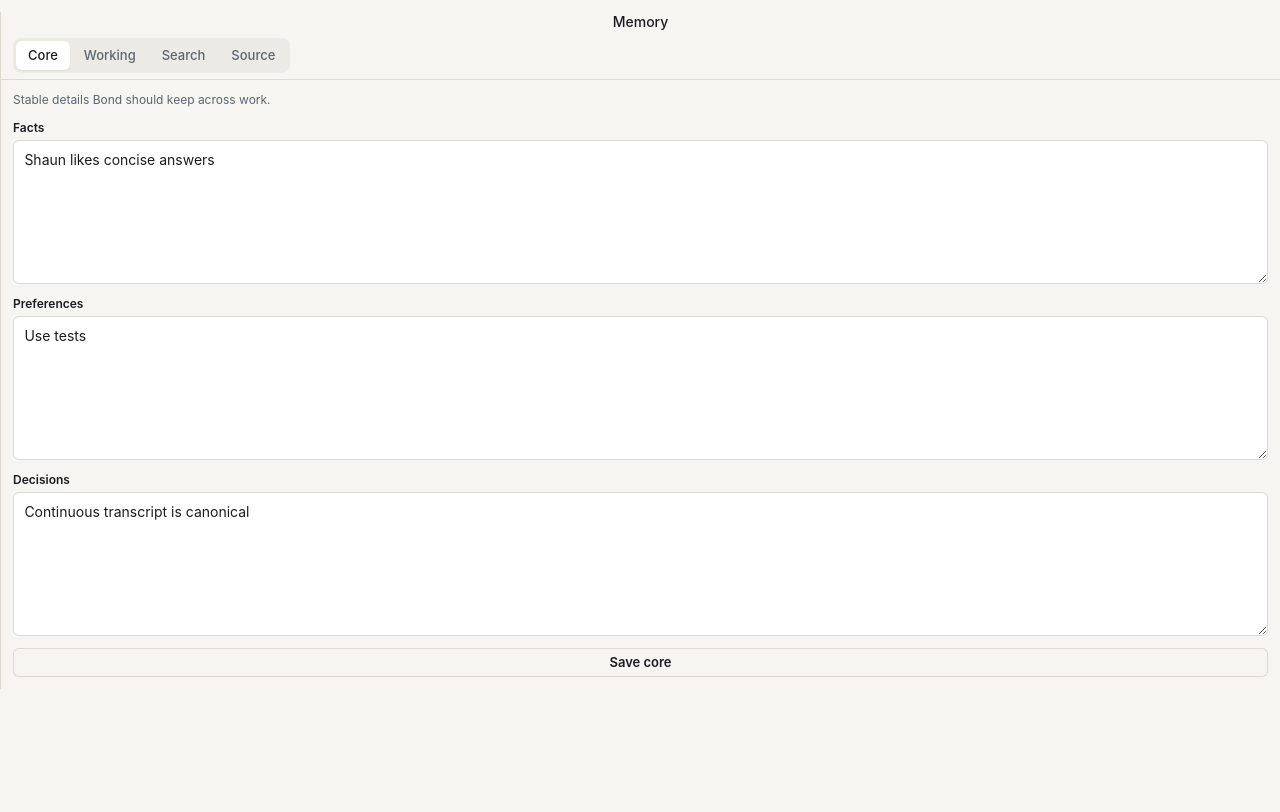
MemoryView › renders working memory tab
The width and height of the screenshot is (1280, 812).
Click the button "Working" at (110, 56), box [72,41,148,70]
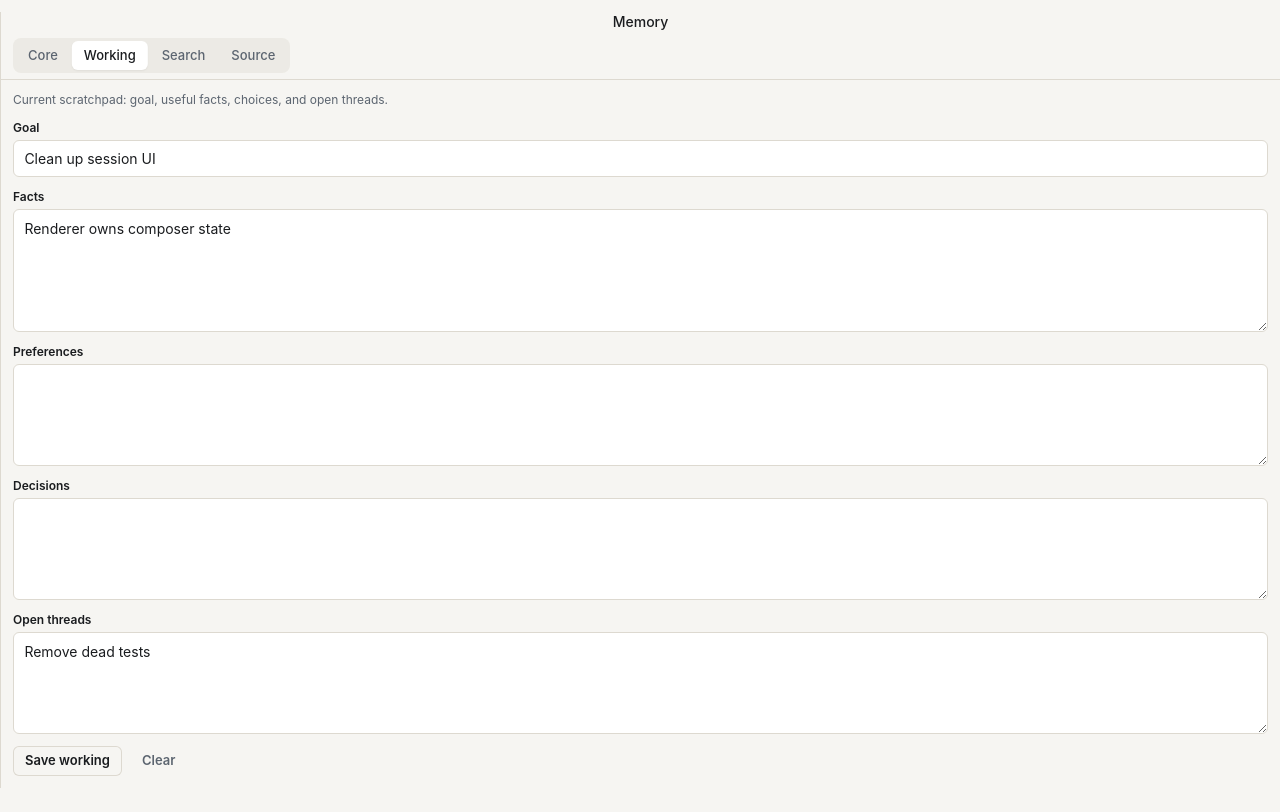
Expected: the text "Current scratchpad" is shown, [13,92,388,107]
Expected: the field labelled "Goal" holds "Clean up session UI", [13,140,1268,178]
